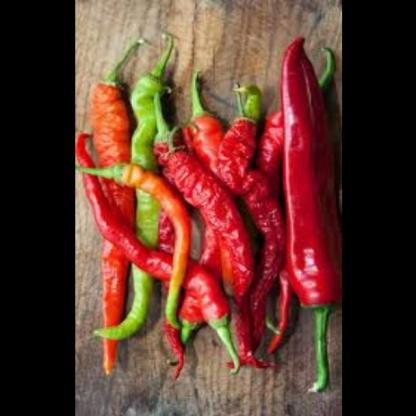hot pepper: (75, 166, 242, 358), (149, 128, 249, 330), (98, 58, 167, 348), (103, 158, 208, 328), (222, 101, 286, 360), (278, 30, 334, 307), (78, 79, 123, 356)
